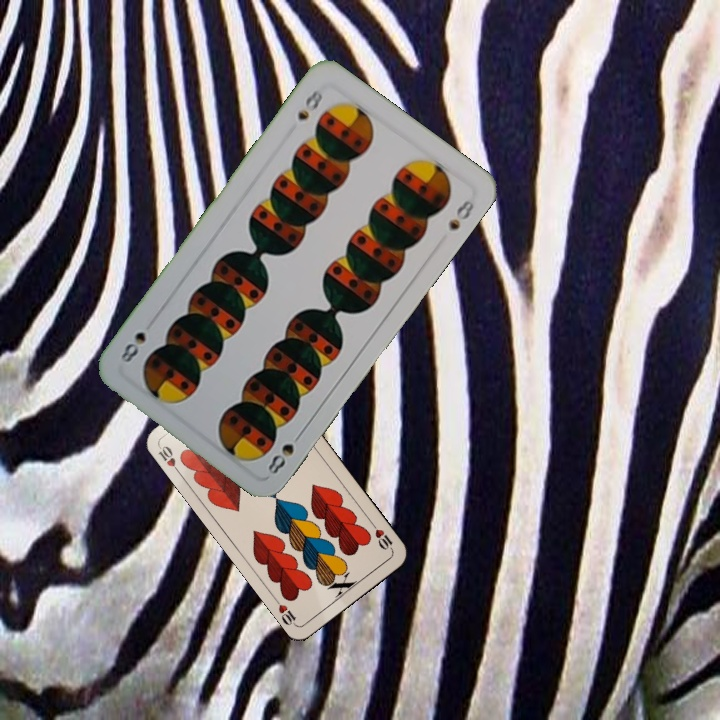H10: (366, 518, 395, 553), (154, 442, 183, 477)
S8: (263, 426, 306, 477), (293, 85, 326, 123)
